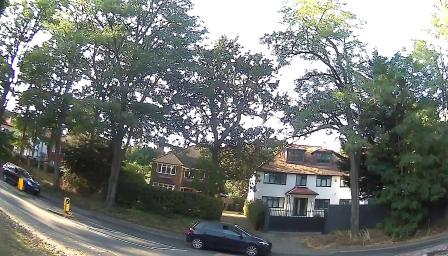Cars: (186, 217, 272, 255), (5, 160, 38, 192)
